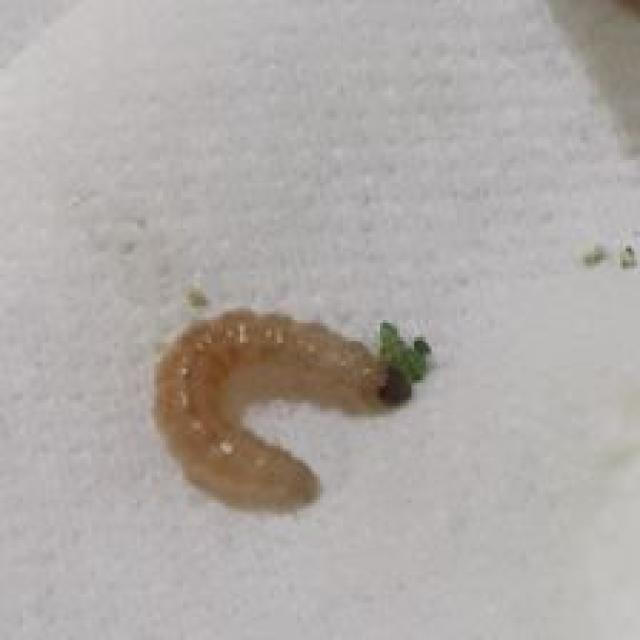white mucus: (128, 287, 430, 523)
